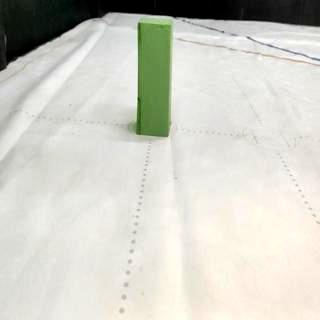greenbox: (136, 16, 174, 137)
